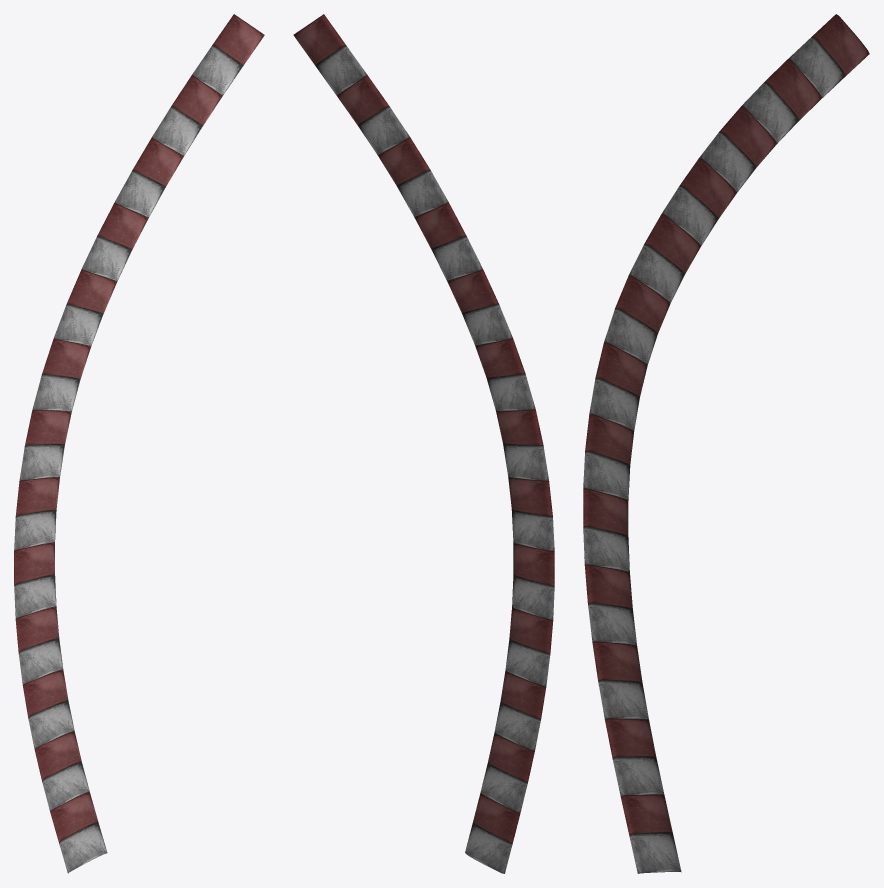
The model's file is _1KERB_03_02_Scene.246.obj.
3 views of the same model, side by side, from view 1: azimuth 30°, elevation 25°; view 2: azimuth 150°, elevation 25°; view 3: azimuth 330°, elevation 25° (orthographic). The views are drawn at different scales.
Visible parts, largest first — view 1: _1KERB_03_02_Scene.246; view 2: _1KERB_03_02_Scene.246; view 3: _1KERB_03_02_Scene.246.
Part boxes in pixels (bbox=[...]): _1KERB_03_02_Scene.246: bbox=[14, 14, 264, 873]; _1KERB_03_02_Scene.246: bbox=[293, 14, 554, 873]; _1KERB_03_02_Scene.246: bbox=[583, 14, 869, 873].
Bounding box in the file's own units: 8.03 × 24.51 × 0.4062.
